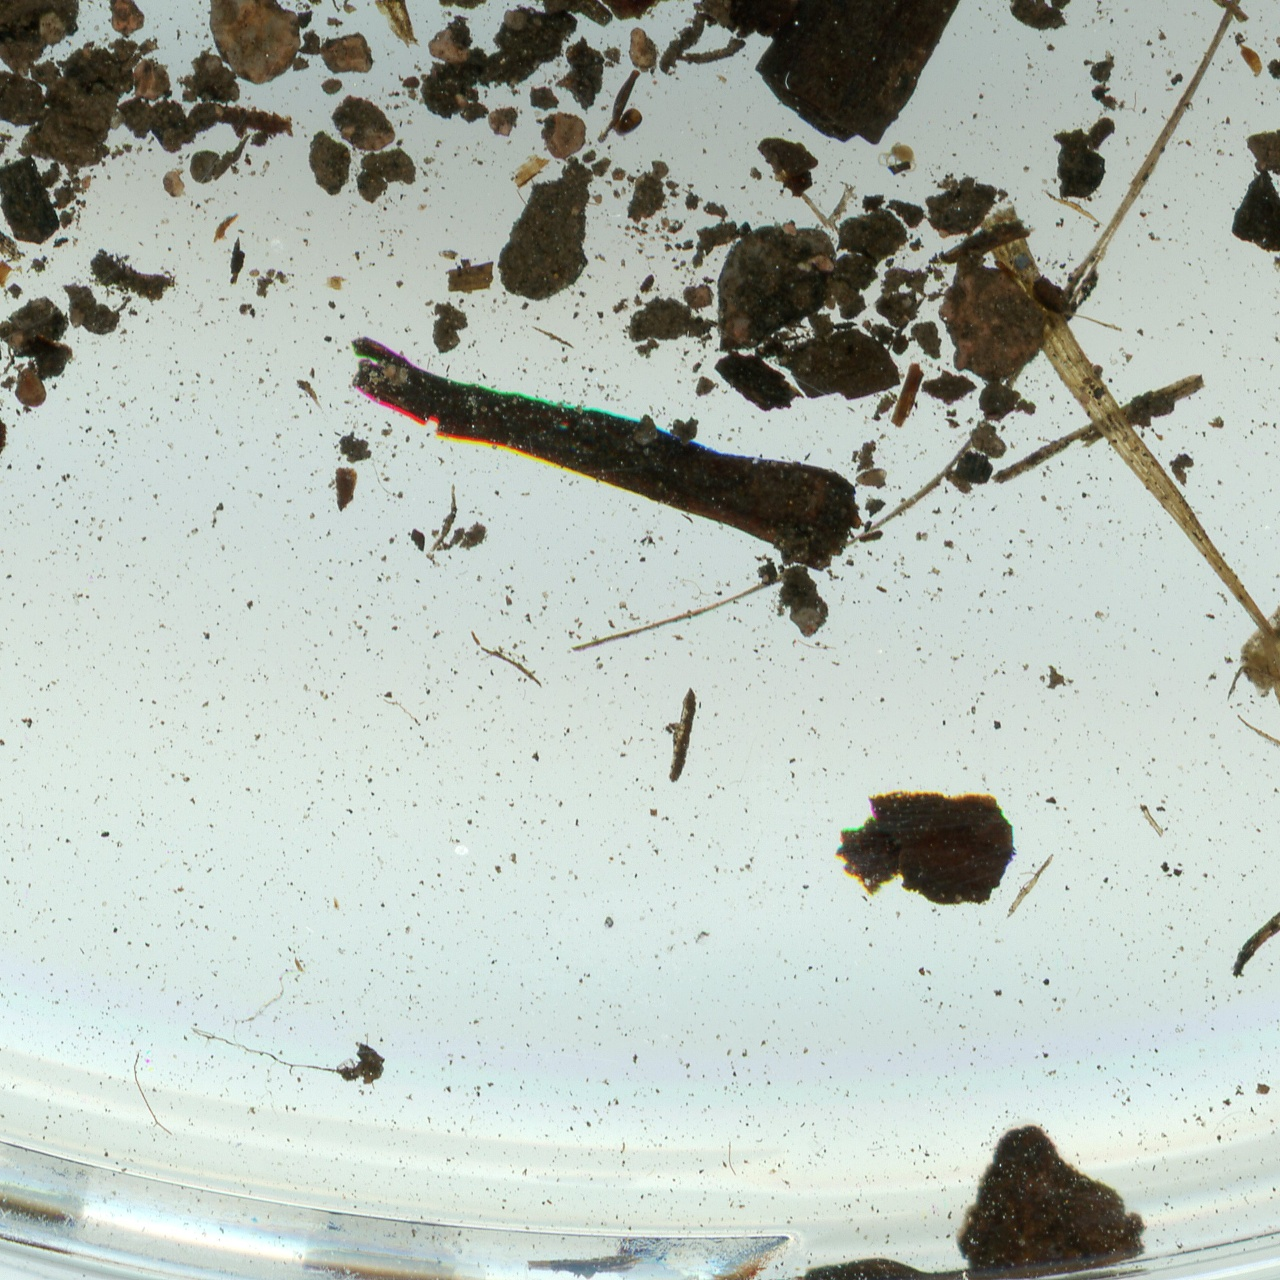arthropod: (878, 142, 919, 177)
